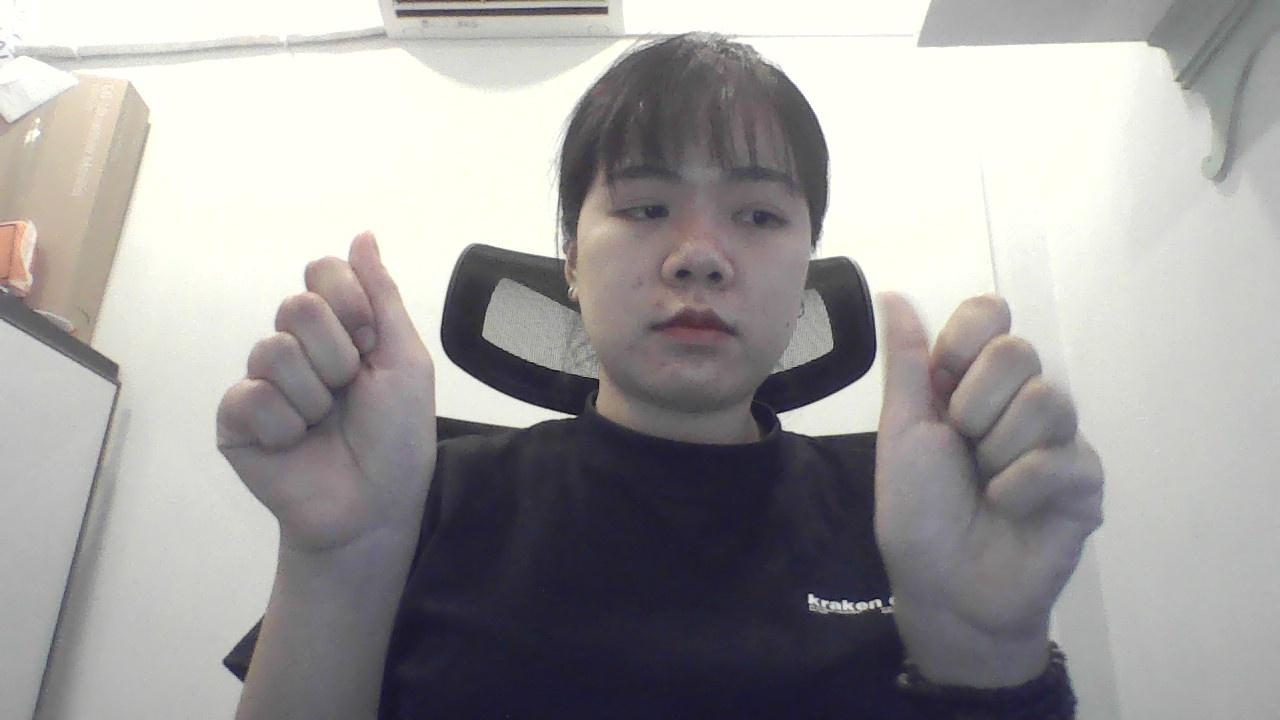A: (209, 217, 446, 642), (860, 277, 866, 279)
